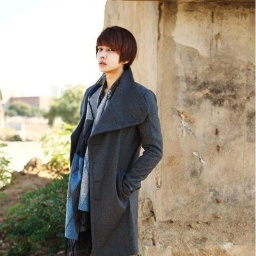face: (95, 26, 139, 75)
